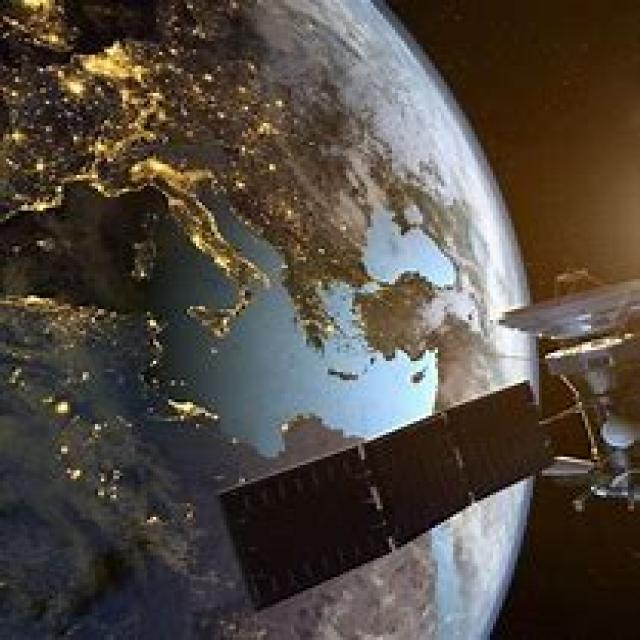satellite: (174, 259, 640, 615)
